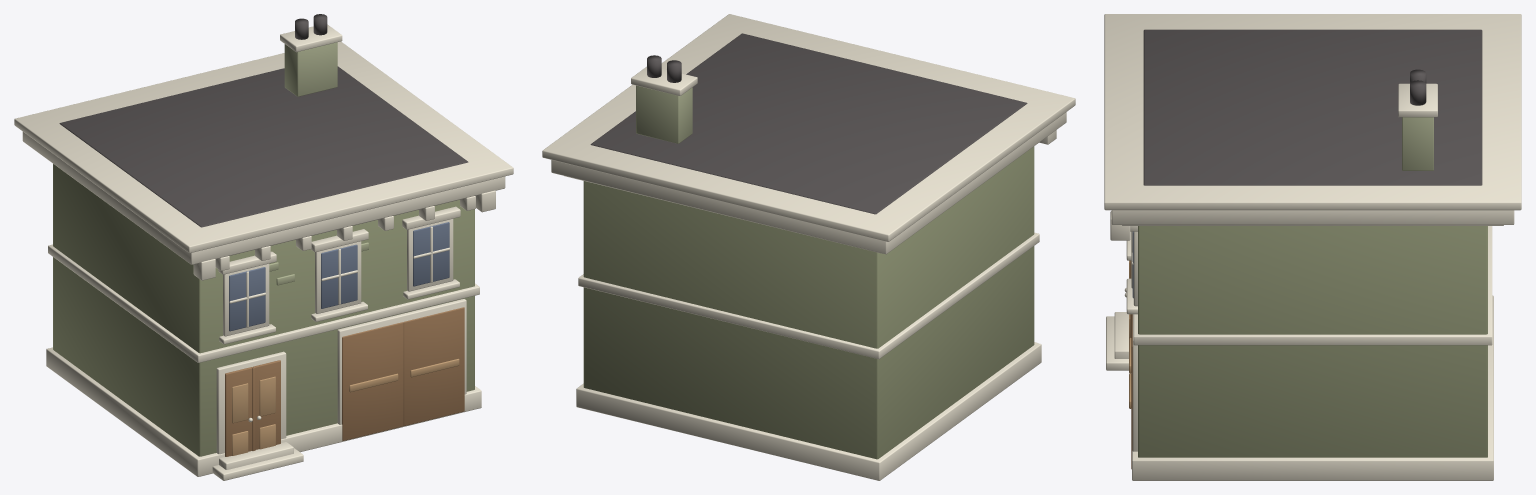
File: edificio_10.glb
3 views of the same model, side by side, from view 1: azimuth 30°, elevation 25°; view 2: azimuth 150°, elevation 25°; view 3: azimuth 270°, elevation 25° (orthographic). The views are drawn at different scales.
Visible parts, largest first — view 1: corpo, tetto, cornicione_corona, carraia_anta_R, carraia_anta_L, cornicione_fascia, zoccolo, fascia_pt, comignolo_fusto, fin_p1_2_vetro, fin_p1_0_vetro, fin_p1_1_vetro (+15 smaller); view 2: corpo, tetto, cornicione_corona, zoccolo, cornicione_fascia, fascia_pt, comignolo_fusto, comignolo_cappello; view 3: corpo, tetto, cornicione_corona, zoccolo, cornicione_fascia, fascia_pt, comignolo_fusto, comignolo_cappello, carraia_cornice, gradino_alto, gradino_basso.
Part boxes in pixels (bbox=[...]): corpo: bbox=[53, 164, 474, 456]; tetto: bbox=[59, 66, 468, 227]; cornicione_corona: bbox=[14, 41, 513, 253]; carraia_anta_R: bbox=[403, 307, 464, 425]; carraia_anta_L: bbox=[342, 322, 403, 440]; cornicione_fascia: bbox=[22, 132, 505, 264]; zoccolo: bbox=[46, 347, 481, 476]; fascia_pt: bbox=[48, 244, 479, 362]; comignolo_fusto: bbox=[284, 42, 337, 96]; fin_p1_2_vetro: bbox=[413, 222, 449, 286]; fin_p1_0_vetro: bbox=[229, 267, 265, 331]; fin_p1_1_vetro: bbox=[321, 244, 357, 308]; corpo: bbox=[583, 146, 1034, 459]; tetto: bbox=[590, 33, 1027, 214]; cornicione_corona: bbox=[542, 14, 1075, 241]; zoccolo: bbox=[576, 342, 1041, 480]; cornicione_fascia: bbox=[551, 112, 1066, 254]; fascia_pt: bbox=[578, 232, 1039, 359]; comignolo_fusto: bbox=[636, 85, 692, 143]; comignolo_cappello: bbox=[631, 66, 697, 95]; corpo: bbox=[1138, 226, 1487, 457]; tetto: bbox=[1143, 29, 1482, 185]; cornicione_corona: bbox=[1104, 14, 1521, 210]; zoccolo: bbox=[1132, 295, 1493, 480]; cornicione_fascia: bbox=[1111, 210, 1514, 224]; fascia_pt: bbox=[1133, 226, 1492, 345]; comignolo_fusto: bbox=[1402, 117, 1433, 170]; comignolo_cappello: bbox=[1398, 83, 1437, 117]; carraia_cornice: bbox=[1132, 314, 1137, 451]; gradino_alto: bbox=[1114, 312, 1128, 358]; gradino_basso: bbox=[1106, 316, 1128, 370].
Bounding box in the file's own units: 7.65 × 7.06 × 7.15.
